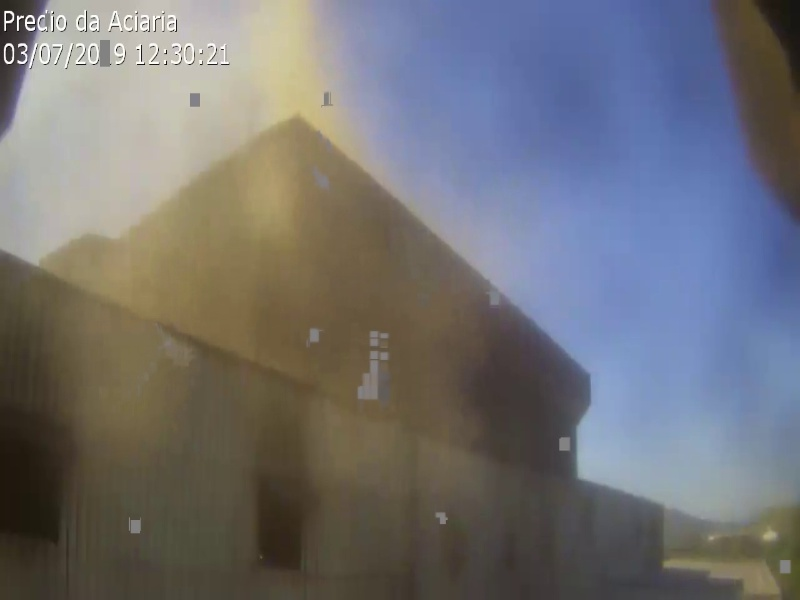Pessimo: (143, 45, 232, 156), (76, 91, 165, 202), (241, 1, 330, 111), (185, 271, 278, 338), (194, 227, 287, 294), (140, 217, 233, 284), (215, 178, 308, 245), (238, 140, 331, 207), (265, 240, 358, 307), (291, 302, 384, 369), (300, 189, 393, 256), (119, 246, 178, 287)
